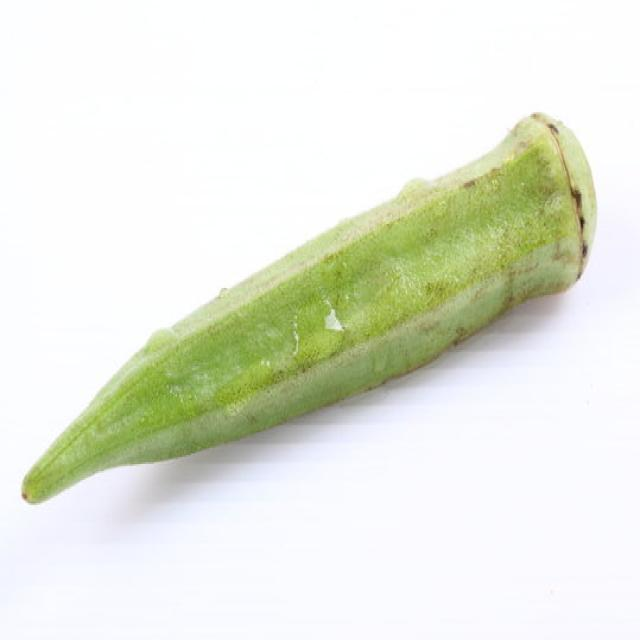Okra: (20, 108, 597, 505)
